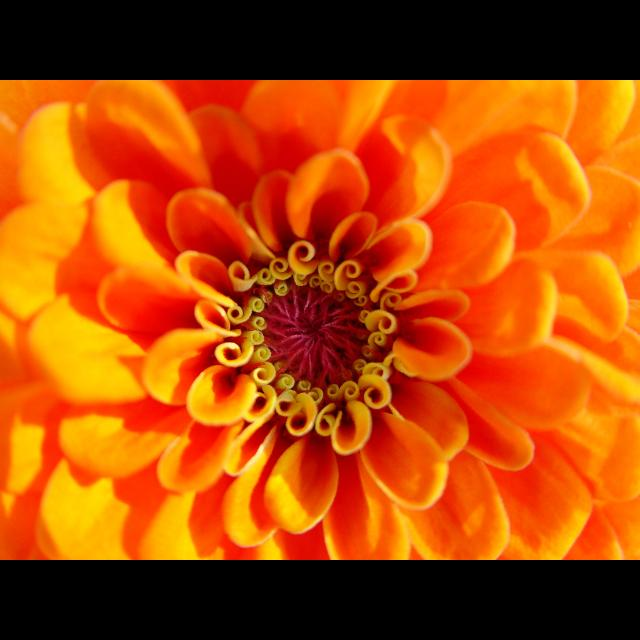Flower: (1, 81, 640, 559)
